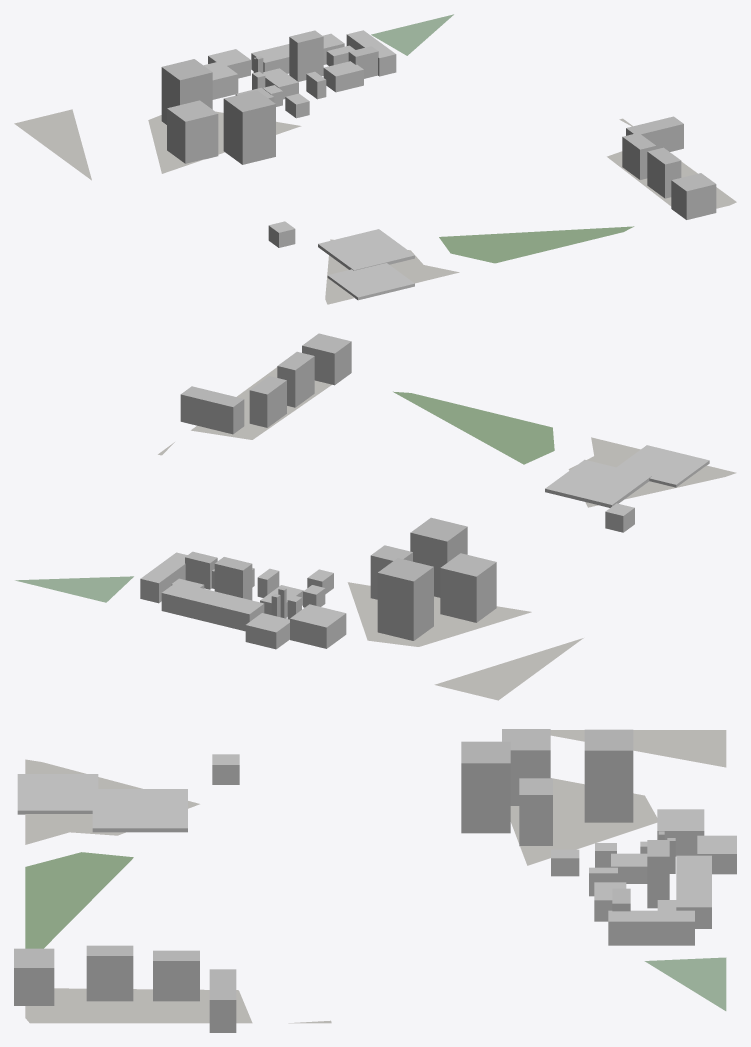
The model's file is 133_101_mid.glb.
3 renders of one model, top to bottom at view 1: azimuth 30°, elevation 25°; view 2: azimuth 150°, elevation 25°; view 3: azimuth 270°, elevation 25°, orthographic. The views are drawn at different scales.
Size of the model in its own units: 516 by 57.28 by 516.
